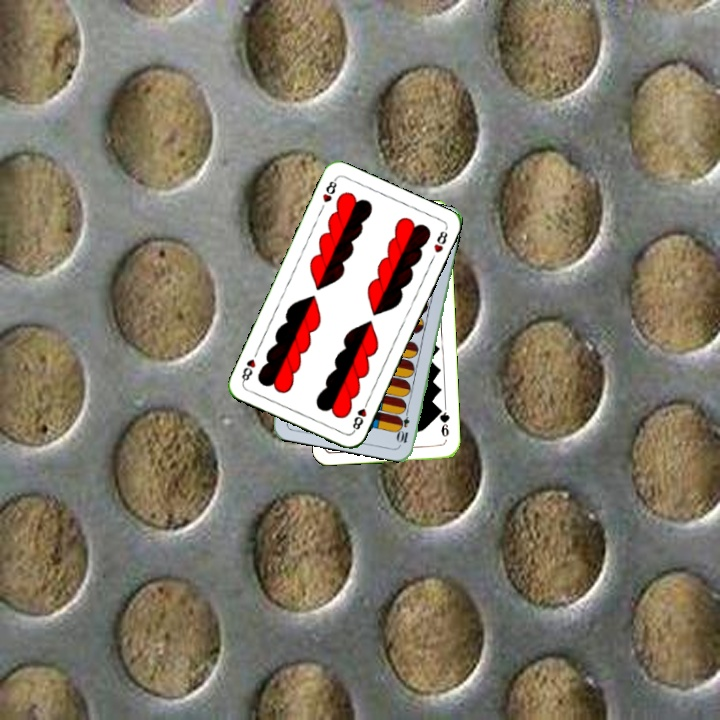E10: (395, 405, 412, 446)
G9: (435, 404, 452, 439)
H8: (348, 396, 371, 435), (318, 174, 339, 205)
